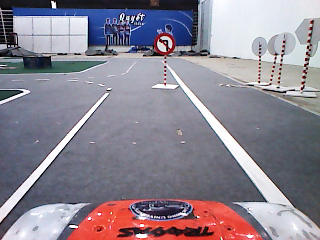ban: (153, 33, 176, 55)
